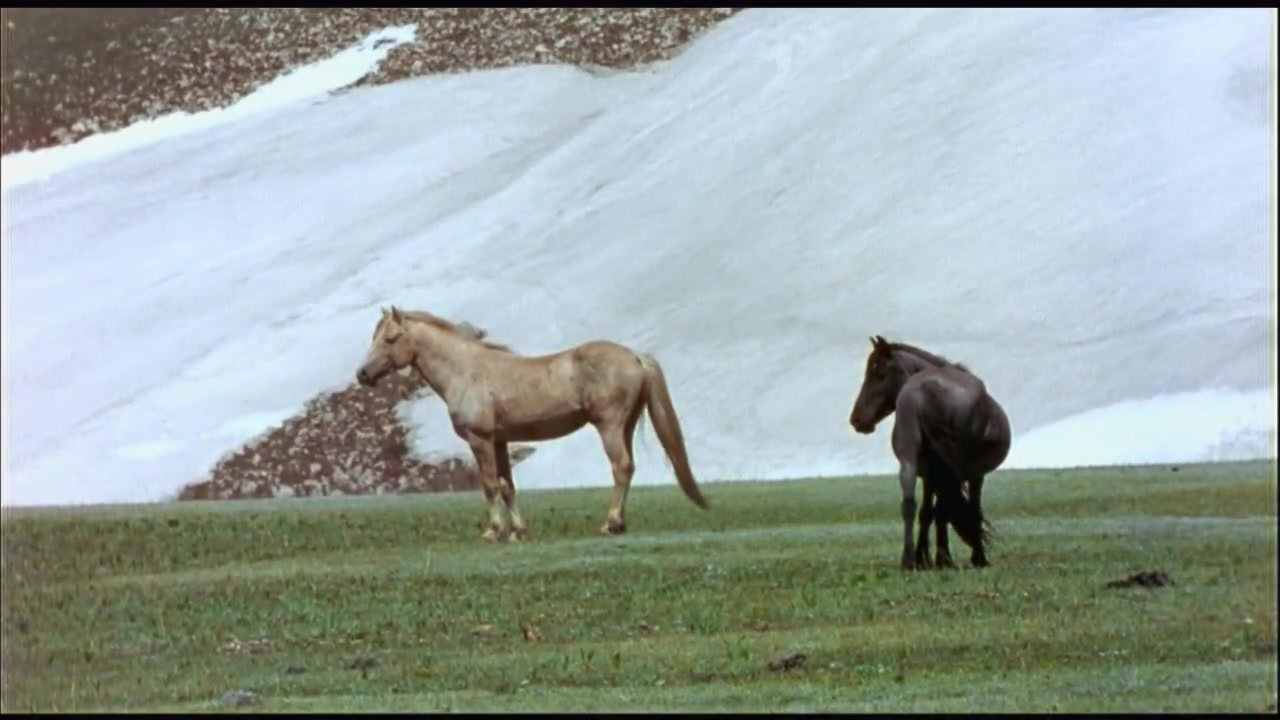horse: (848, 332, 1015, 574)
